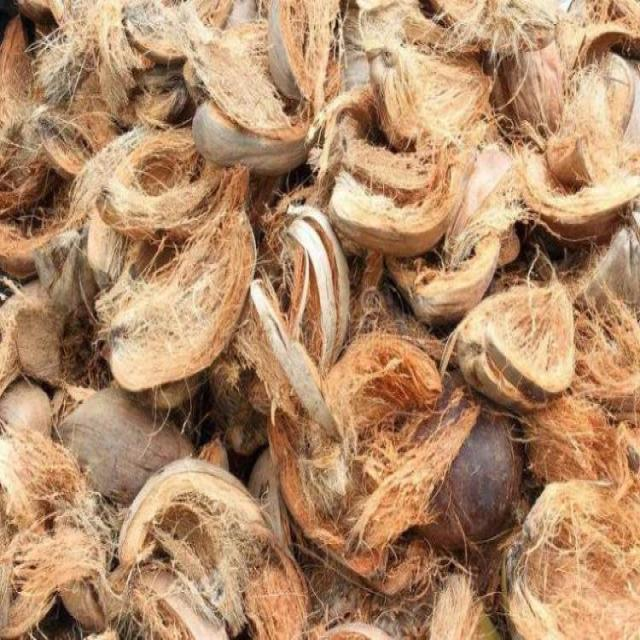Organik: (1, 3, 637, 637)
